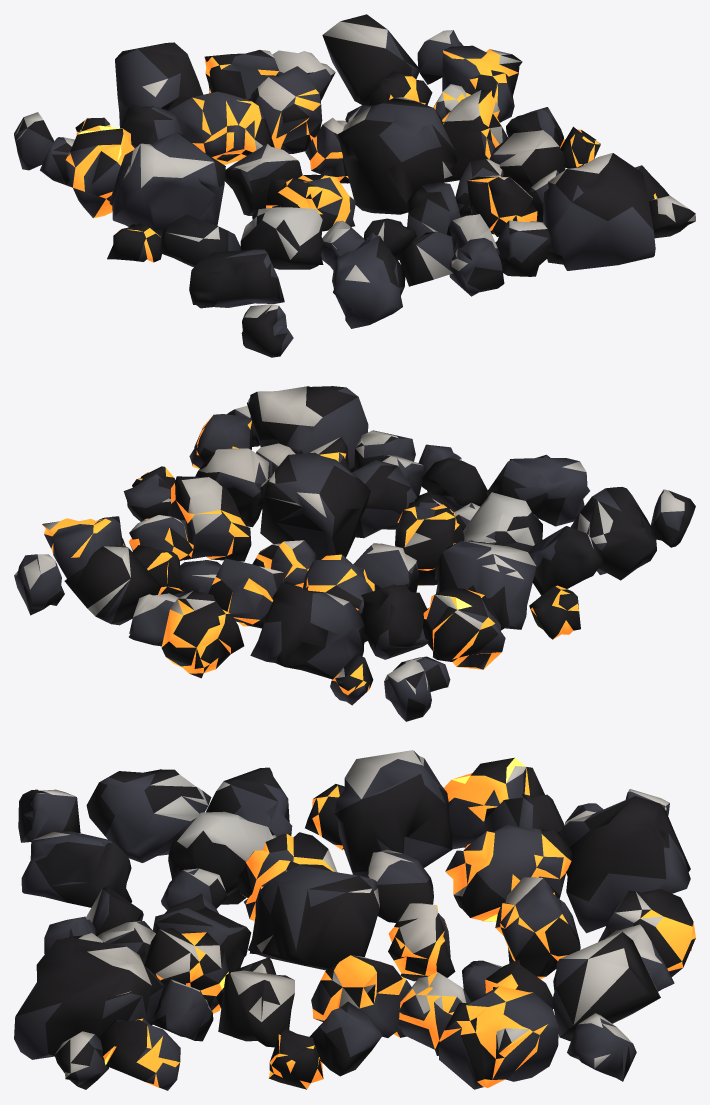
File: ember_coal_bed_lod1.glb
3 views of the same model, one above another, from view 1: azimuth 30°, elevation 25°; view 2: azimuth 150°, elevation 25°; view 3: azimuth 270°, elevation 25° (orthographic). The views are drawn at different scales.
Parts seen in each view (by area): view 1: ember_coal_bed.001; view 2: ember_coal_bed.001; view 3: ember_coal_bed.001.
Part boxes in pixels (box(x1,y1,x2,y2)): ember_coal_bed.001: box(14, 14, 695, 357); ember_coal_bed.001: box(14, 386, 695, 721); ember_coal_bed.001: box(14, 750, 695, 1090).
Size of the model in its own units: 11.81 by 2.32 by 12.09.
